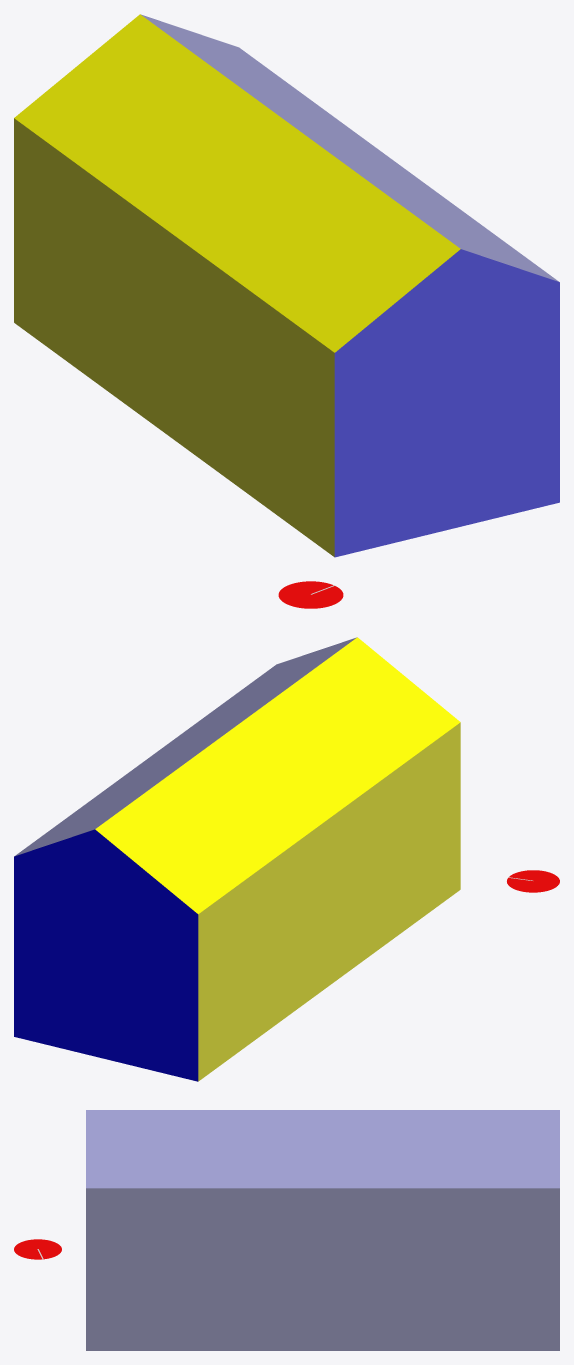
Rendered from result.glb.
3 renders of one model, top to bottom at view 1: azimuth 30°, elevation 25°; view 2: azimuth 150°, elevation 25°; view 3: azimuth 270°, elevation 25°, orthographic. The views are drawn at different scales.
Parts seen in each view (by area): view 1: 86347c11-8e59-4264-861d-ea2004a994fe__undefined, 35c4265a-b5b5-4889-a1a6-d617551d5bc3__undefined, d6d9c8c1-c0b4-4965-8623-7bab8316e561__undefined, 3cdf66c6-b1a9-462d-ab2c-d4b6608029fa__undefined, 55d0db1b-b142-4f2c-a4a0-254f1c2017c6__Circle; view 2: 86347c11-8e59-4264-861d-ea2004a994fe__undefined, 35c4265a-b5b5-4889-a1a6-d617551d5bc3__undefined, be4d7a7e-000c-4122-ad2c-e5e809557f2e__undefined, 3cdf66c6-b1a9-462d-ab2c-d4b6608029fa__undefined, 55d0db1b-b142-4f2c-a4a0-254f1c2017c6__Circle; view 3: 868d87d5-6021-4b4f-bc60-0b16f6980f1a__undefined, 3cdf66c6-b1a9-462d-ab2c-d4b6608029fa__undefined, 55d0db1b-b142-4f2c-a4a0-254f1c2017c6__Circle.
Boxes of the visible parts, x1=… form: 86347c11-8e59-4264-861d-ea2004a994fe__undefined: x1=14, y1=118, x2=334, y2=556; 35c4265a-b5b5-4889-a1a6-d617551d5bc3__undefined: x1=14, y1=14, x2=460, y2=352; d6d9c8c1-c0b4-4965-8623-7bab8316e561__undefined: x1=334, y1=249, x2=559, y2=557; 3cdf66c6-b1a9-462d-ab2c-d4b6608029fa__undefined: x1=141, y1=14, x2=558, y2=281; 55d0db1b-b142-4f2c-a4a0-254f1c2017c6__Circle: x1=278, y1=581, x2=343, y2=608; 86347c11-8e59-4264-861d-ea2004a994fe__undefined: x1=198, y1=722, x2=460, y2=1081; 35c4265a-b5b5-4889-a1a6-d617551d5bc3__undefined: x1=95, y1=637, x2=460, y2=914; be4d7a7e-000c-4122-ad2c-e5e809557f2e__undefined: x1=14, y1=829, x2=198, y2=1081; 3cdf66c6-b1a9-462d-ab2c-d4b6608029fa__undefined: x1=14, y1=637, x2=356, y2=856; 55d0db1b-b142-4f2c-a4a0-254f1c2017c6__Circle: x1=507, y1=870, x2=559, y2=892; 868d87d5-6021-4b4f-bc60-0b16f6980f1a__undefined: x1=86, y1=1188, x2=559, y2=1350; 3cdf66c6-b1a9-462d-ab2c-d4b6608029fa__undefined: x1=86, y1=1110, x2=559, y2=1188; 55d0db1b-b142-4f2c-a4a0-254f1c2017c6__Circle: x1=14, y1=1239, x2=61, y2=1259.
Bounding box in the file's own units: 550 × 471 × 1137.
